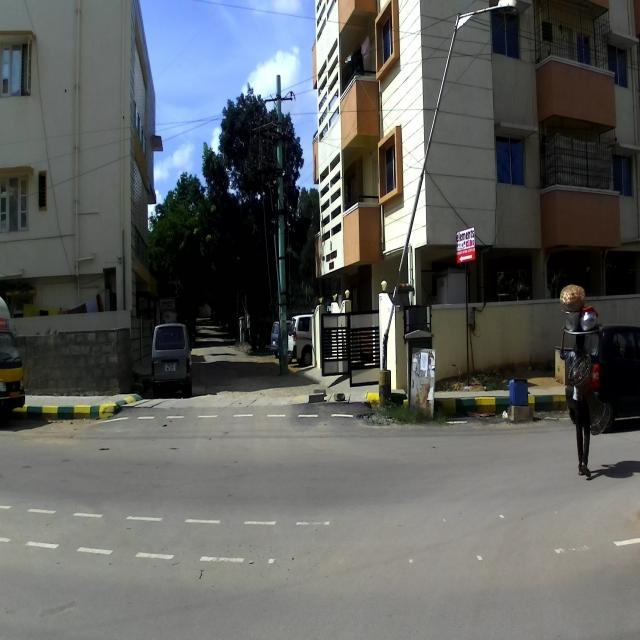Car_Maruti-Suzuki: (149, 319, 192, 396)
